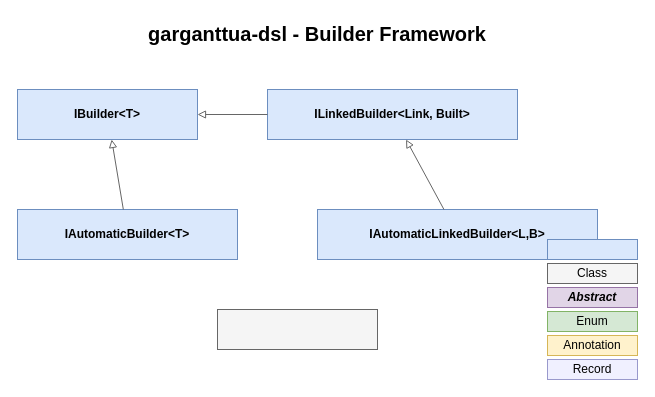
Some shapes in this 655 by 397 pixel diagram are drawn without their labels. The shapes that lost their labels are listed below. From the top down, each one's centre as x and y in pixels, then its label:
the point at 592,249: Interface
the point at 297,329: DslException
